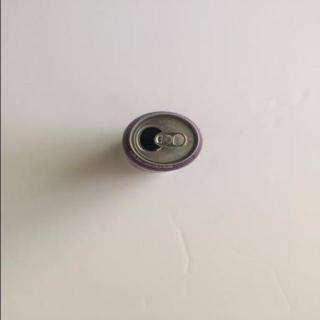Anorganik: (118, 109, 204, 175)
